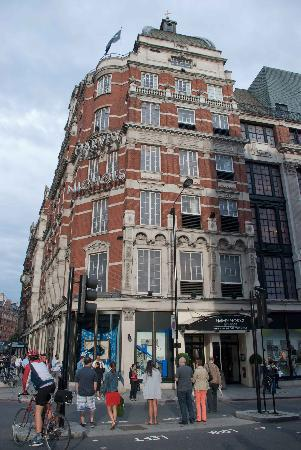affected: (8, 19, 255, 397)
